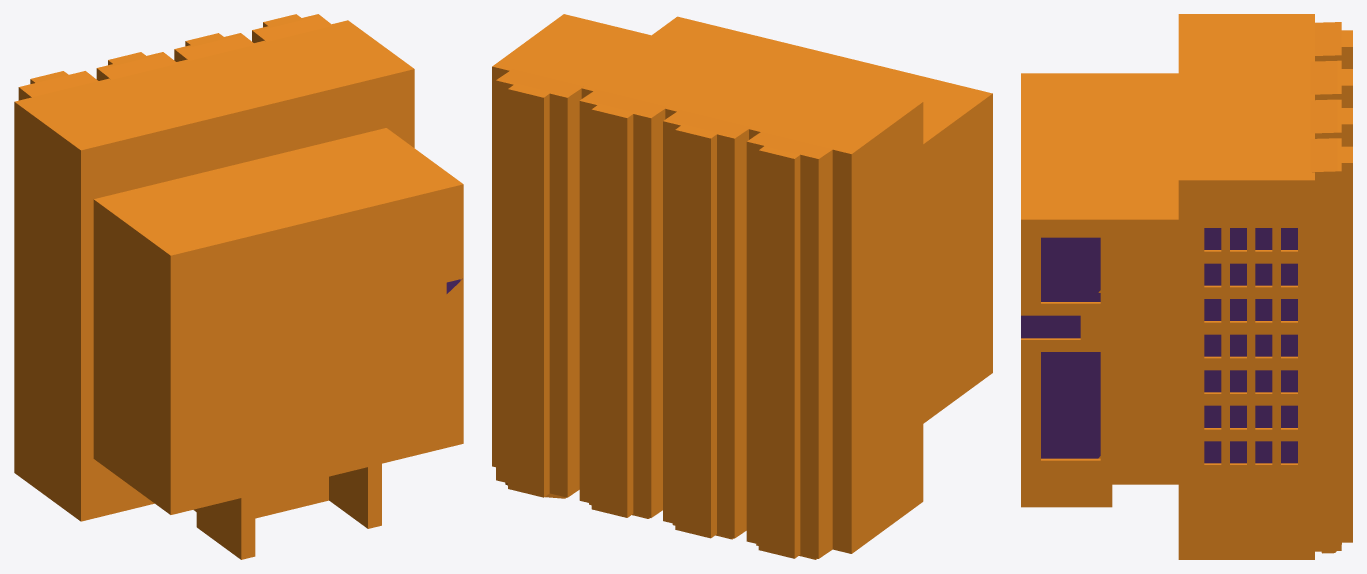
File: Sezam.fbx
The picture shows the model from 3 angles, left to right: view 1: azimuth 30°, elevation 25°; view 2: azimuth 150°, elevation 25°; view 3: azimuth 270°, elevation 25°; orthographic projection. The views are drawn at different scales.
Visible parts, largest first — view 1: SezamV2; view 2: SezamV2; view 3: SezamV2.
Boxes of the visible parts, x1,y1,x2,y2 form: SezamV2: (14,14,463,559); SezamV2: (492,14,992,559); SezamV2: (1021,14,1352,559).
Size of the model in its own units: 44.04 by 47.47 by 37.09.
Materials: 1 (1 with a texture image).
